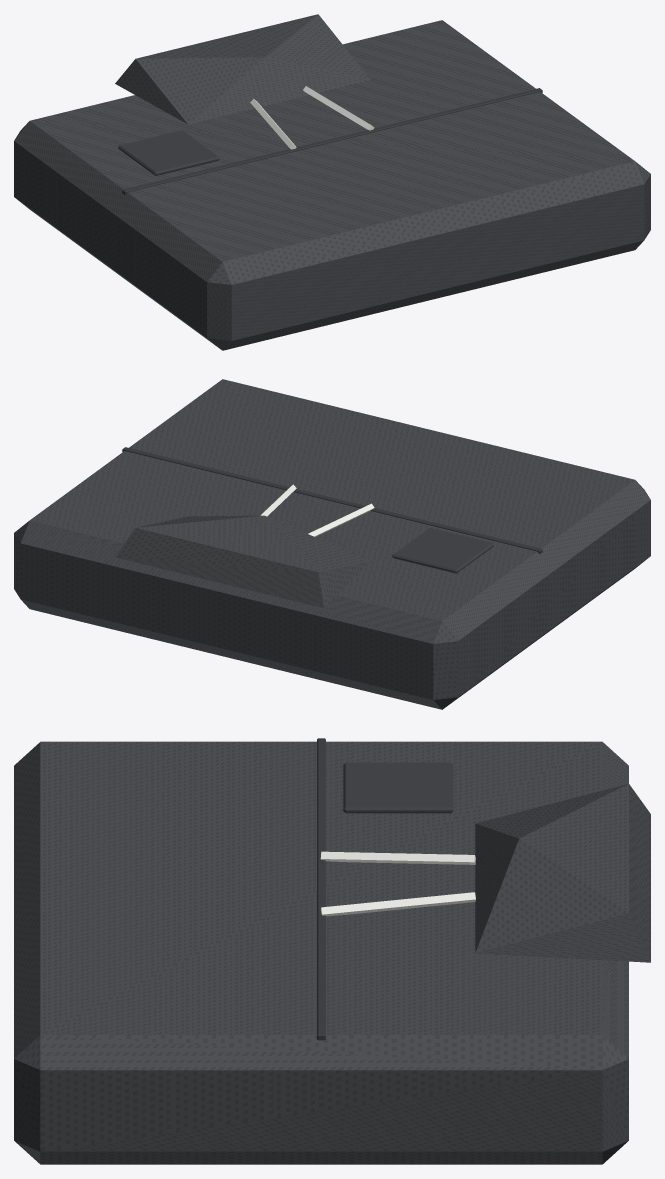
Rendered from hoodie.glb.
The picture shows the model from 3 angles, top to bottom: view 1: azimuth 30°, elevation 25°; view 2: azimuth 150°, elevation 25°; view 3: azimuth 270°, elevation 25°; orthographic projection. The views are drawn at different scales.
Parts seen in each view (by area): view 1: block_body, block_hood, block_pocket, block_fold, block_string1; view 2: block_body, block_hood, block_pocket, block_fold; view 3: block_body, block_hood, block_pocket, block_fold, block_string-1, block_string1.
Boxes of the visible parts, x1,y1,x2,y2 form: block_body: [14, 20, 650, 350]; block_hood: [115, 14, 370, 124]; block_pocket: [118, 130, 219, 175]; block_fold: [122, 88, 542, 194]; block_string1: [303, 86, 374, 130]; block_body: [14, 379, 650, 709]; block_hood: [115, 515, 370, 608]; block_pocket: [392, 528, 493, 573]; block_fold: [122, 447, 542, 553]; block_body: [14, 741, 628, 1164]; block_hood: [475, 784, 650, 962]; block_pocket: [343, 762, 453, 813]; block_fold: [317, 738, 325, 1040]; block_string-1: [320, 851, 475, 864]; block_string1: [320, 892, 475, 916].
Bounding box in the file's own units: 0.34 × 0.09 × 0.29.
Materials: 1 (1 with a texture image).
